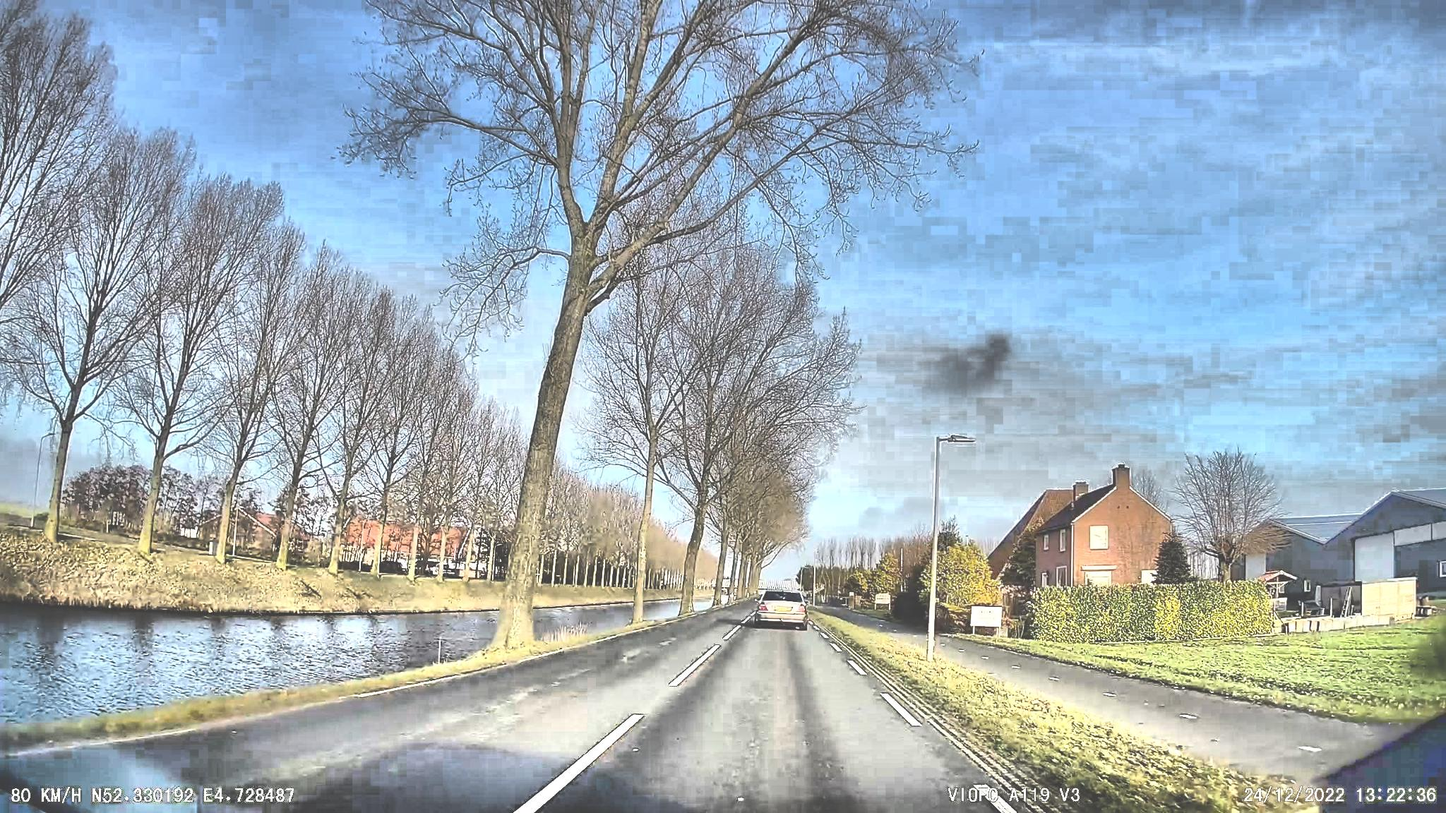Roads: (0, 619, 1094, 813)
